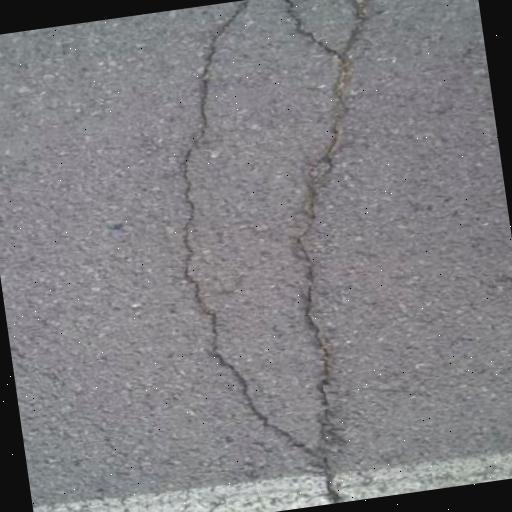spalling: (170, 0, 321, 465), (281, 0, 384, 498), (269, 0, 337, 65)
